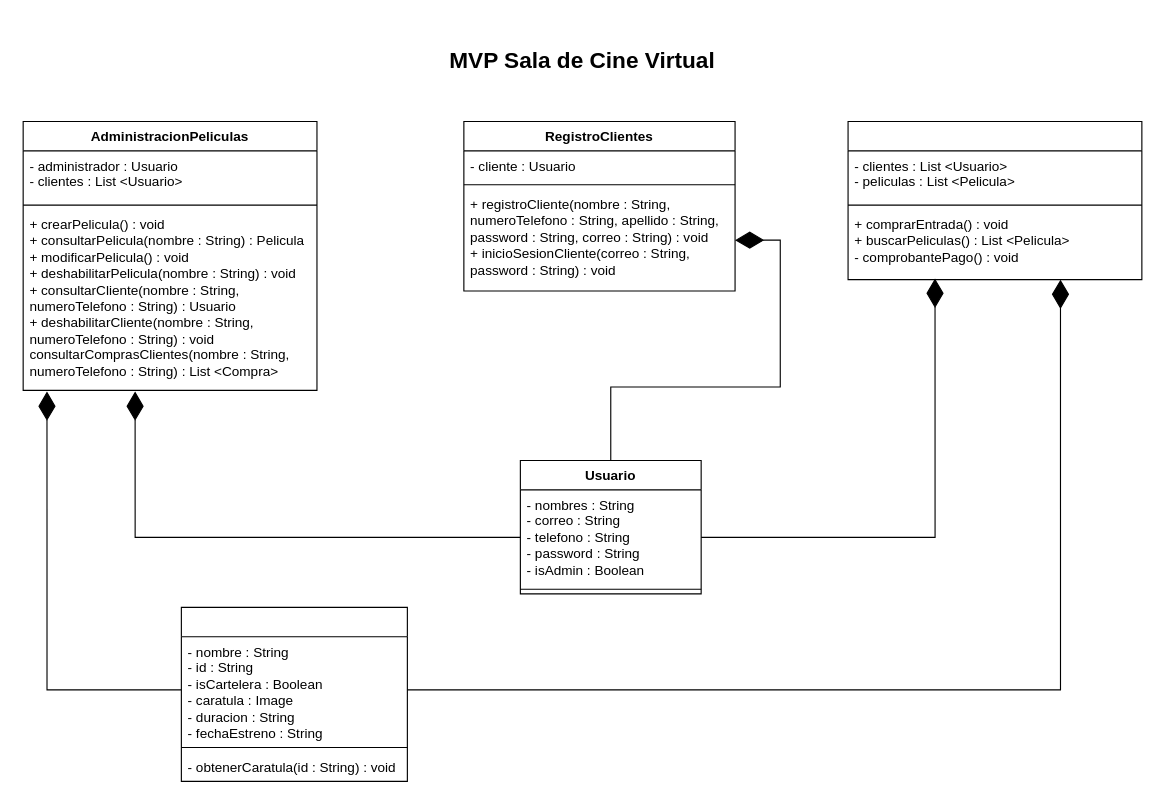
Some shapes in this 1162 by 803 pixel diagram are drawn without their labels. Each missing label, with the box of its shape:
CompraEntradas: (847, 120, 1142, 280)
Pelicula: (180, 606, 407, 781)
